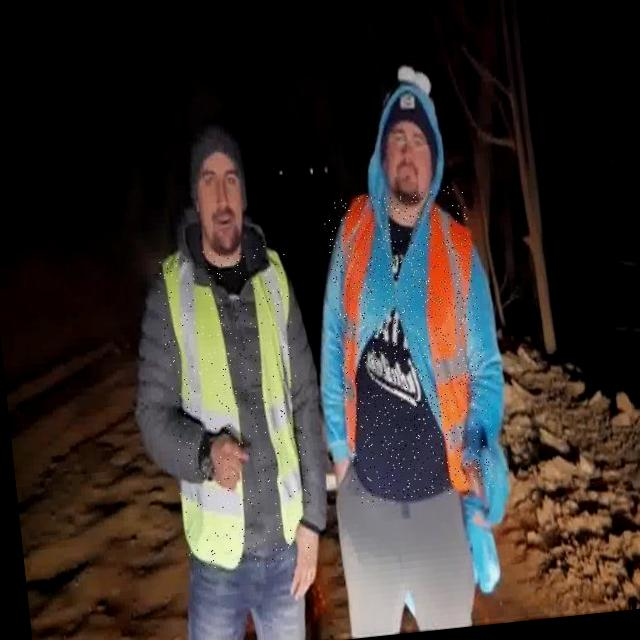no-gloves: (278, 503, 329, 604), (205, 416, 252, 494)
no-helmet: (142, 116, 274, 264), (350, 71, 454, 236)
vest: (322, 185, 498, 504), (154, 242, 318, 576)
